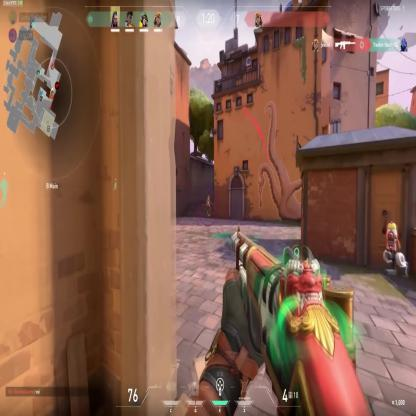enemy: (205, 194, 212, 217)
enemy_head: (208, 195, 210, 199)
